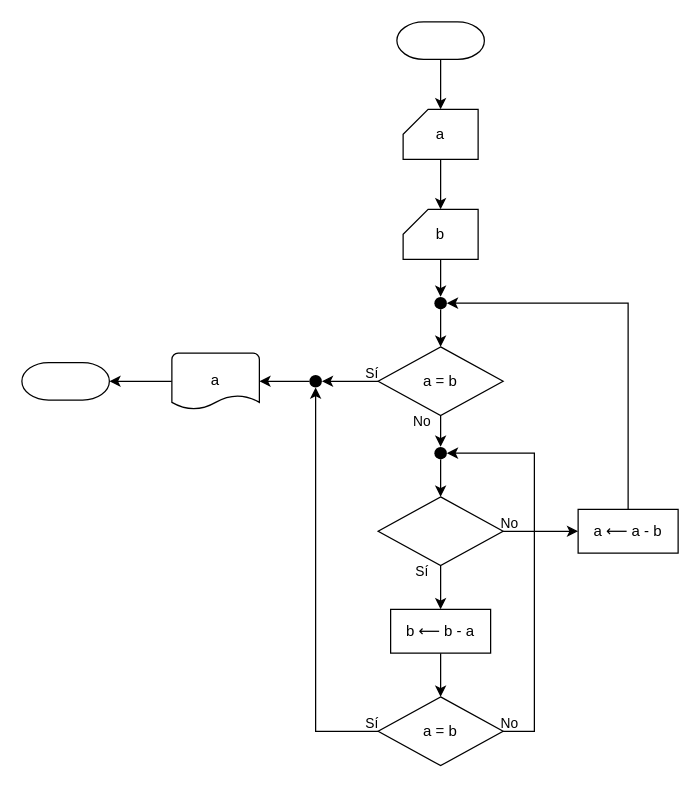
Image size: 700x788. Some labels were removed from this diagram. Each missing label, with the centre of its shape:
a < b: pixel 440 531
Fin: pixel 65 380
Inicio: pixel 440 40
